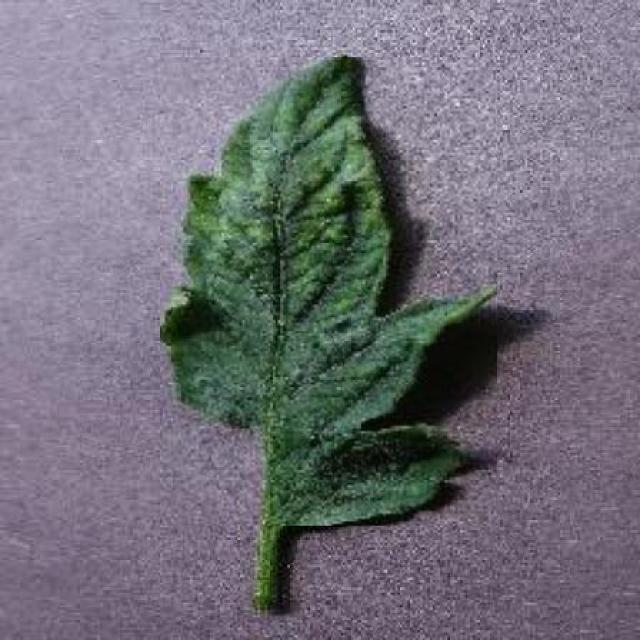Mosaic Virus: (160, 57, 497, 526)
